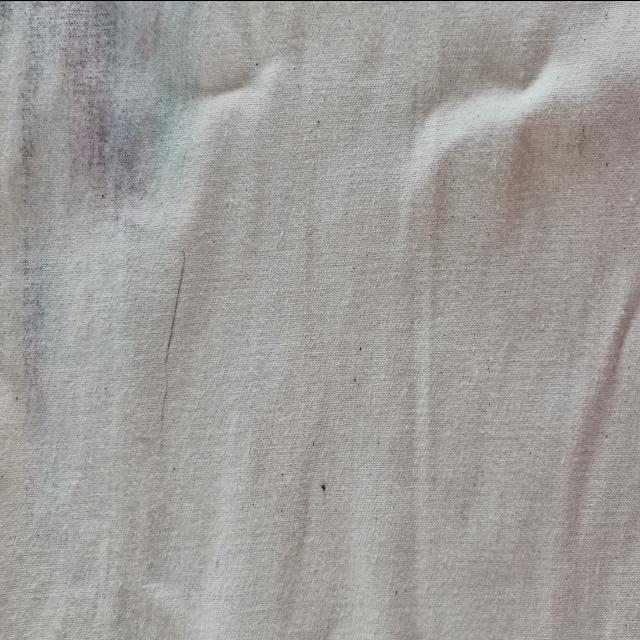taaaches: (0, 0, 194, 630)
